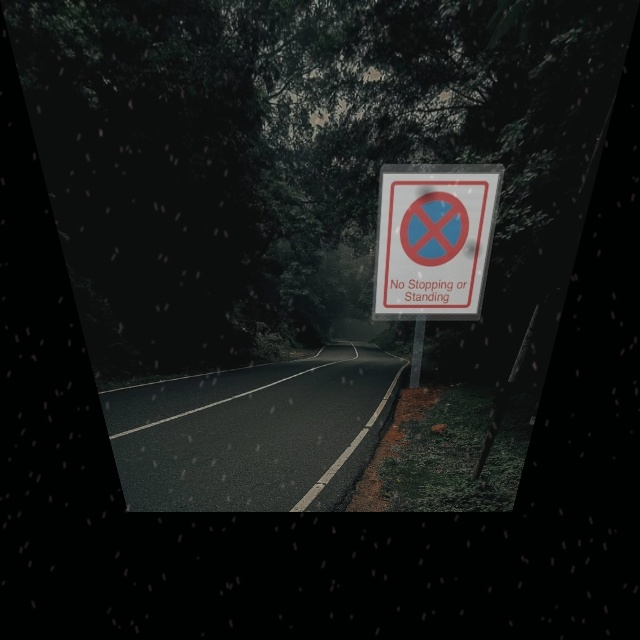No_Stopping_or_Standing: (389, 185, 484, 275)
